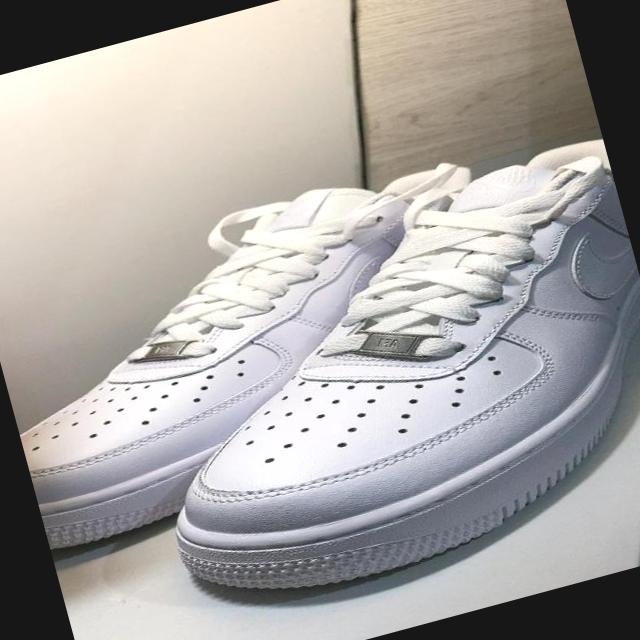nike_original_airforce: (93, 131, 640, 632), (0, 140, 566, 559)
